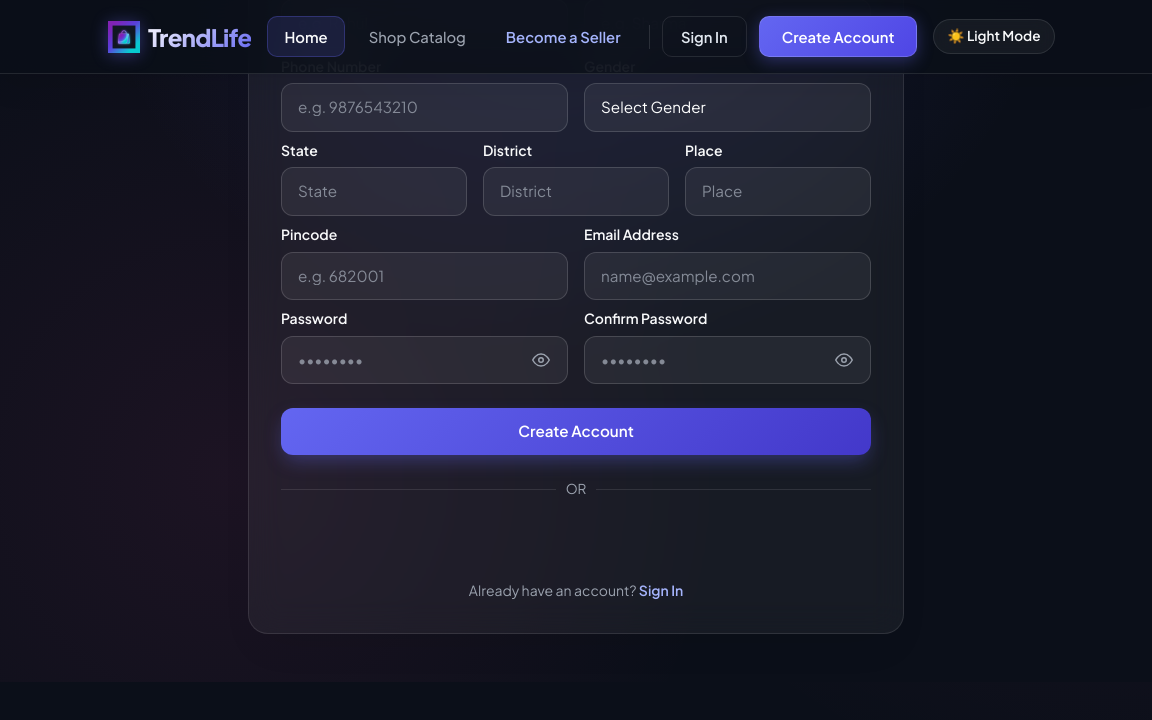
Authentication Flow › Signup Component › validates matching passwords
The width and height of the screenshot is (1152, 720).
(page scrolled)
# Fill in passwords that don't match
Type "Pass123!" into the 1st password field with placeholder "••••••••" at (424, 360), box [281,336,568,384]
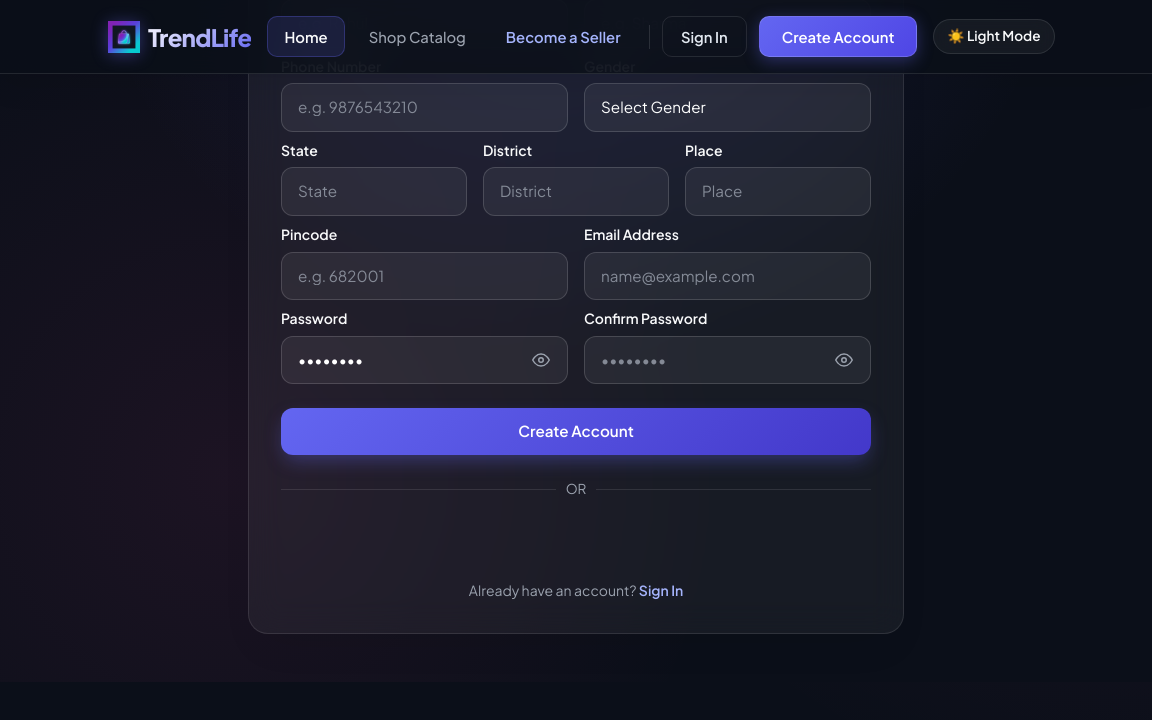
Type "Pass1234!" into the password field with placeholder "••••••••" at (728, 360), box [584,336,871,384]
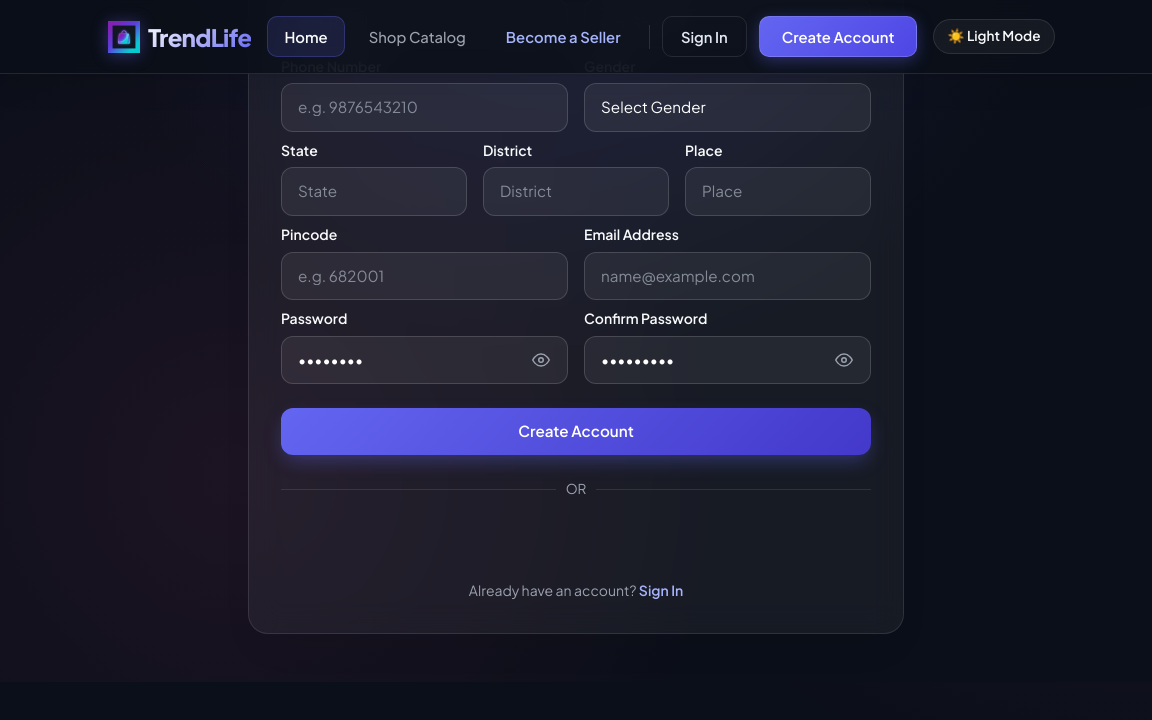
Click the button "Create Account" at (576, 432), box [281,408,871,455]
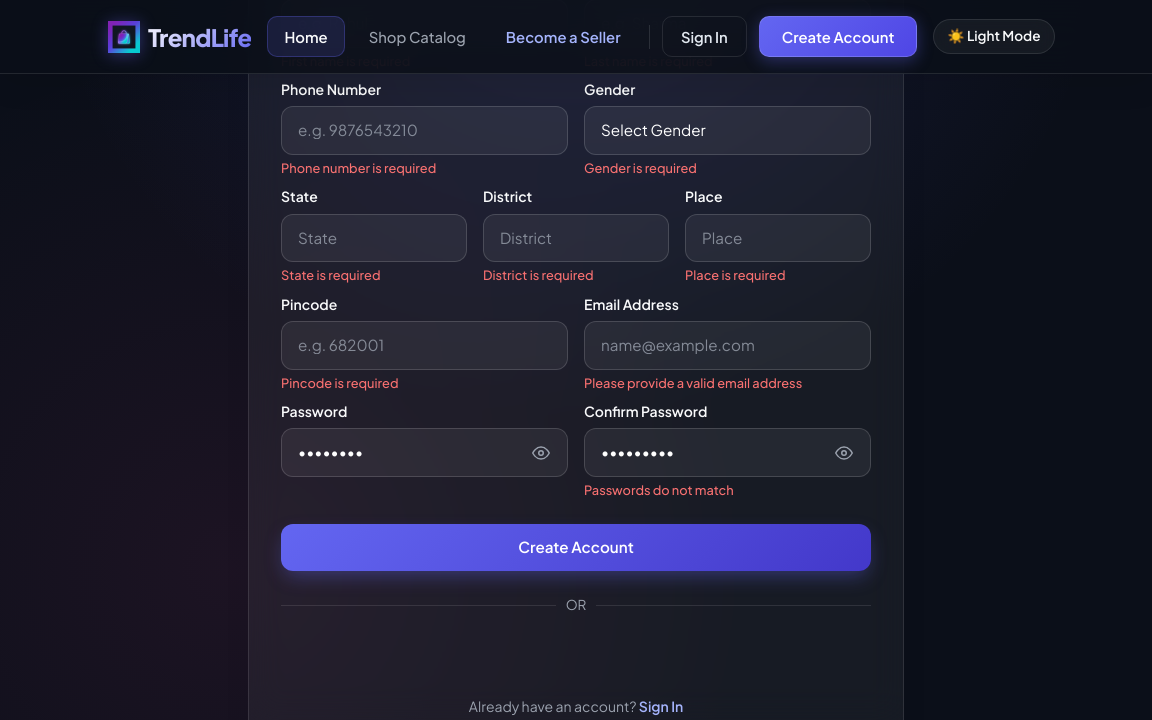
Expected: the text "Passwords do not match" is shown, [584,482,734,498]
